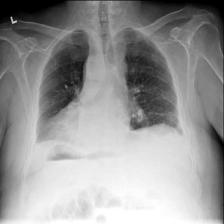normal: (29, 24, 188, 156)
